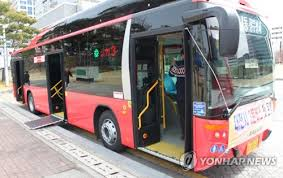out: (122, 1, 272, 167)
